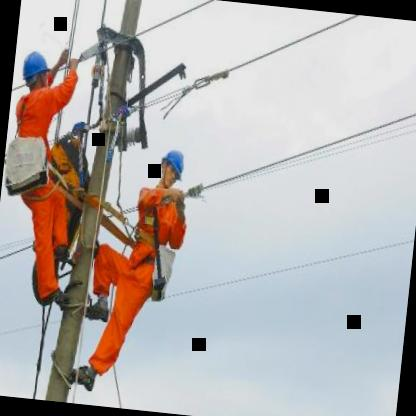helmet: (18, 46, 53, 96), (154, 142, 189, 192)
